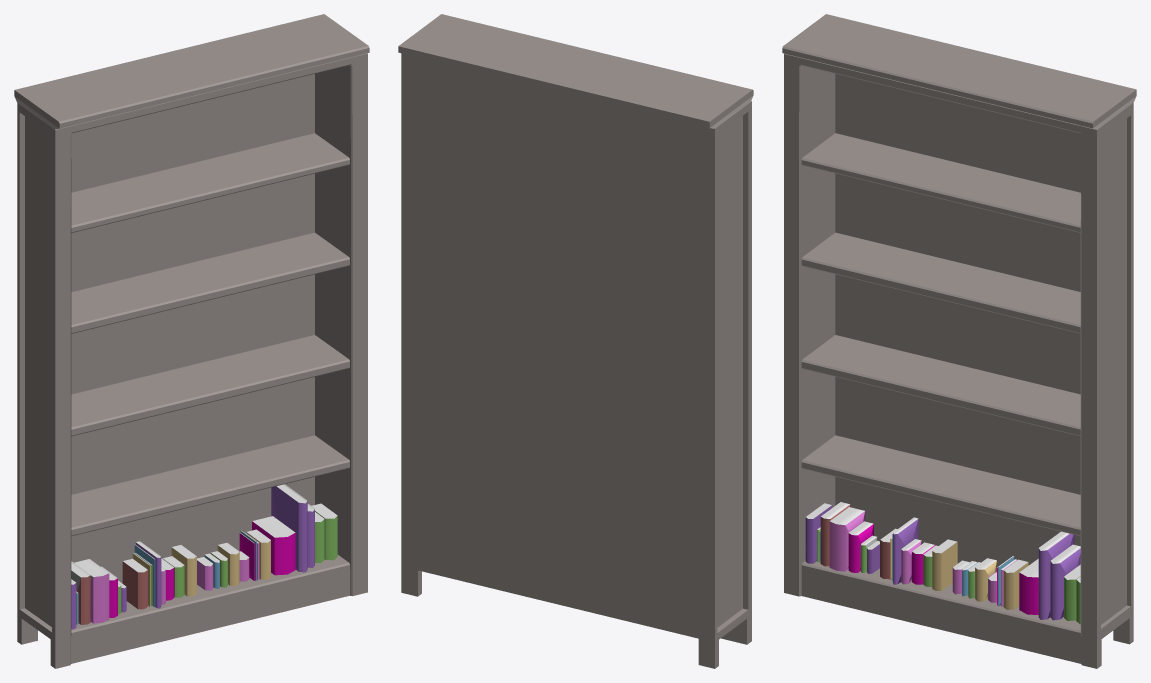
The model's file is Library_Shelf.fbx.
The picture shows the model from 3 angles, left to right: view 1: azimuth 30°, elevation 25°; view 2: azimuth 150°, elevation 25°; view 3: azimuth 330°, elevation 25°; orthographic projection.
Visible parts, largest first — view 1: Library_Shelf, Book_Stack_04, Book_Stack_02, Book_Stack_03, Book_Stack_01; view 2: Library_Shelf; view 3: Library_Shelf, Book_Stack_04, Book_Stack_01, Book_Stack_02, Book_Stack_03.
Part boxes in pixels (left/top/right/bottom): Library_Shelf: left=14, top=14, right=369, bottom=668; Book_Stack_04: left=252, top=484, right=337, bottom=575; Book_Stack_02: left=122, top=541, right=196, bottom=609; Book_Stack_03: left=197, top=529, right=270, bottom=590; Book_Stack_01: left=71, top=559, right=126, bottom=629; Library_Shelf: left=398, top=14, right=753, bottom=668; Library_Shelf: left=782, top=14, right=1136, bottom=668; Book_Stack_04: left=1019, top=531, right=1080, bottom=624; Book_Stack_01: left=805, top=502, right=879, bottom=573; Book_Stack_02: left=880, top=517, right=957, bottom=590; Book_Stack_03: left=952, top=556, right=1028, bottom=609.
Bounding box in the file's own units: 180 × 302 × 44.76.
